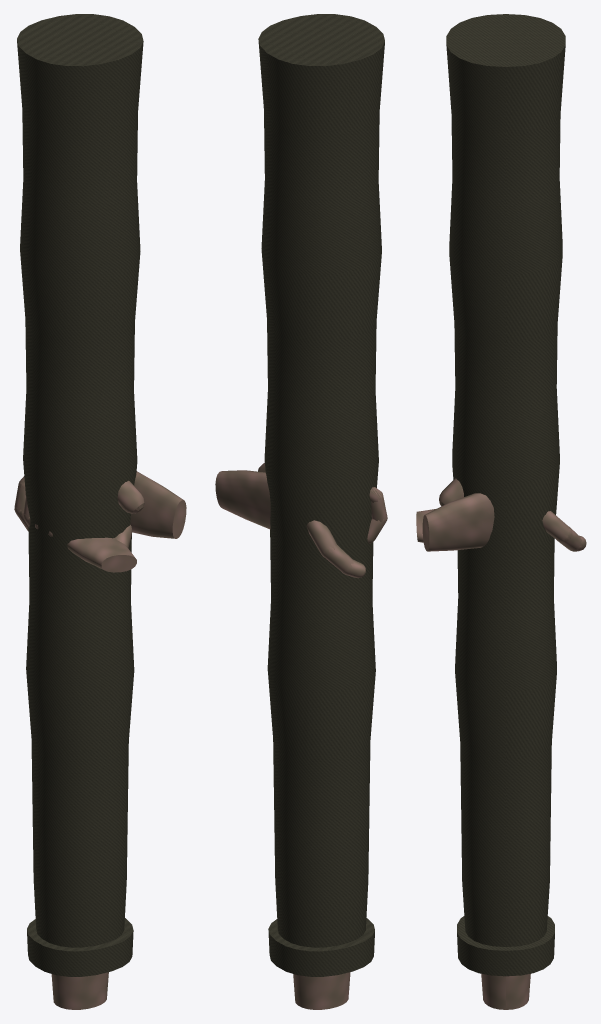
The model's file is fp_arms.glb.
3 views of the same model, side by side, from view 1: azimuth 30°, elevation 25°; view 2: azimuth 210°, elevation 25°; view 3: azimuth 270°, elevation 25° (orthographic).
Visible parts, largest first — view 1: FP_arm, FP_hand_r, FP_hand_l; view 2: FP_arm, FP_hand_r, FP_hand_l; view 3: FP_arm, FP_hand_r.
Boxes of the visible parts, <box> form: FP_arm: <box>17,14,143,1009</box>; FP_hand_r: <box>117,471,186,538</box>; FP_hand_l: <box>14,476,136,572</box>; FP_arm: <box>258,14,384,1009</box>; FP_hand_r: <box>215,462,365,578</box>; FP_hand_l: <box>367,487,387,543</box>; FP_arm: <box>446,14,565,1009</box>; FP_hand_r: <box>422,478,586,551</box>.
Bounding box in the file's own units: 0.1279 × 0.96 × 0.1546.
Materials: 2 (2 with a texture image).
